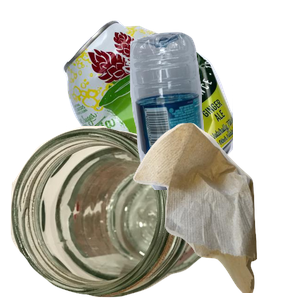glass: (10, 126, 220, 300)
metal: (60, 18, 300, 198)
plastic: (127, 29, 300, 209)
trash: (131, 120, 300, 300)
